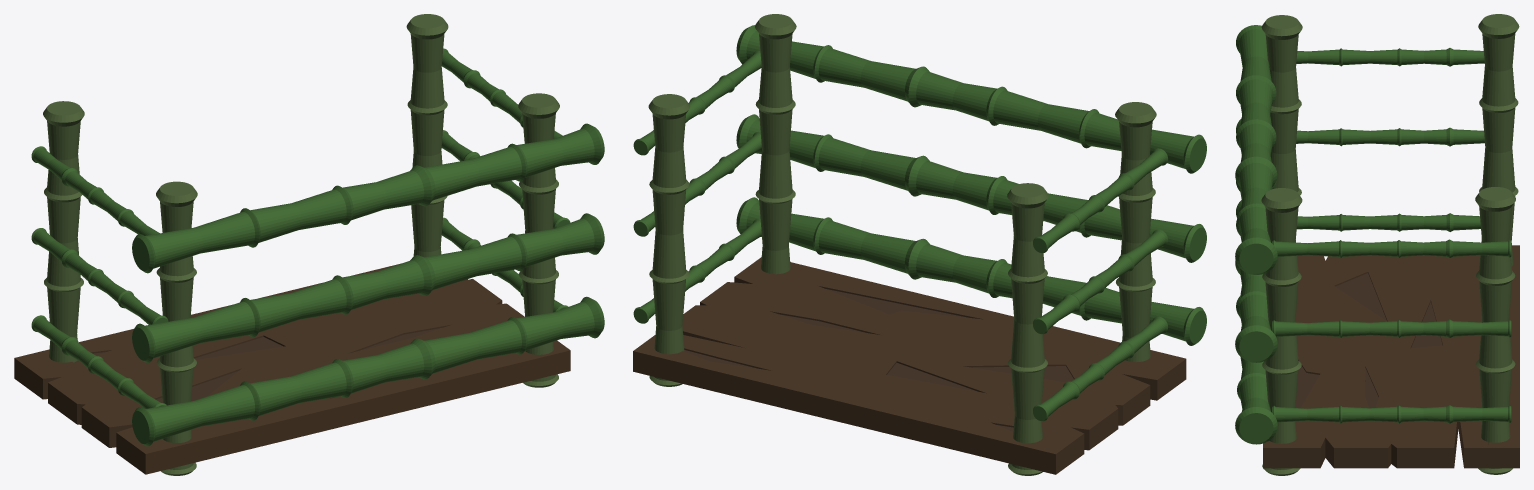
Rendered from echaffaudage qui soutien la racine 1.1.fbx.
The picture shows the model from 3 angles, left to right: view 1: azimuth 30°, elevation 25°; view 2: azimuth 150°, elevation 25°; view 3: azimuth 270°, elevation 25°; orthographic projection. The views are drawn at different scales.
Parts seen in each view (by area): view 1: Cube.002, Cylindre.041, Cylindre.045, Cylindre.044, bambou soutien 2.023, bambou soutien 2.024, bambou soutien 2.022, bambou soutien 2.021, Cylindre.039, Cylindre.038, Cylindre.040, Cylindre.003 (+2 smaller); view 2: Cube.002, Cylindre.045, Cylindre.041, Cylindre.044, bambou soutien 2.024, bambou soutien 2.021, bambou soutien 2.023, bambou soutien 2.022, Cylindre.040, Cylindre.038, Cylindre.039, Cylindre.036 (+2 smaller); view 3: Cube.002, Cylindre.045, bambou soutien 2.024, bambou soutien 2.021, bambou soutien 2.023, bambou soutien 2.022, Cylindre.036, Cylindre.003, Cylindre.037, Cylindre.044, Cylindre.039, Cylindre.040 (+2 smaller).
Part boxes in pixels (x1,y1,x2,y2): Cube.002: (14, 263, 570, 474); Cylindre.041: (132, 296, 604, 446); Cylindre.045: (132, 123, 604, 273); Cylindre.044: (132, 213, 604, 362); bambou soutien 2.023: (43, 101, 84, 362); bambou soutien 2.024: (406, 14, 448, 257); bambou soutien 2.022: (156, 181, 197, 475); bambou soutien 2.021: (518, 93, 559, 387); Cylindre.039: (31, 228, 168, 324); Cylindre.038: (31, 315, 166, 408); Cylindre.040: (31, 146, 159, 235); Cylindre.003: (442, 48, 562, 138); Cube.002: (633, 257, 1186, 474); Cylindre.045: (736, 25, 1206, 173); Cylindre.041: (736, 197, 1206, 345); Cylindre.044: (736, 114, 1206, 262); bambou soutien 2.024: (648, 94, 690, 386); bambou soutien 2.021: (755, 14, 796, 274); bambou soutien 2.023: (1007, 183, 1048, 475); bambou soutien 2.022: (1115, 102, 1156, 362); Cylindre.040: (1033, 148, 1167, 253); Cylindre.038: (1033, 316, 1167, 421); Cylindre.039: (1033, 229, 1167, 334); Cylindre.036: (633, 132, 761, 236); Cube.002: (1263, 245, 1519, 468); Cylindre.045: (1235, 25, 1277, 274); bambou soutien 2.024: (1475, 187, 1515, 474); bambou soutien 2.021: (1261, 188, 1302, 475); bambou soutien 2.023: (1478, 14, 1519, 266); bambou soutien 2.022: (1261, 15, 1302, 195); Cylindre.036: (1272, 319, 1511, 338); Cylindre.003: (1272, 239, 1511, 258); Cylindre.037: (1272, 405, 1511, 423); Cylindre.044: (1235, 118, 1277, 362); Cylindre.039: (1296, 127, 1484, 146); Cylindre.040: (1296, 48, 1484, 66).
Bounding box in the file's own units: 1300 × 764 × 720.
